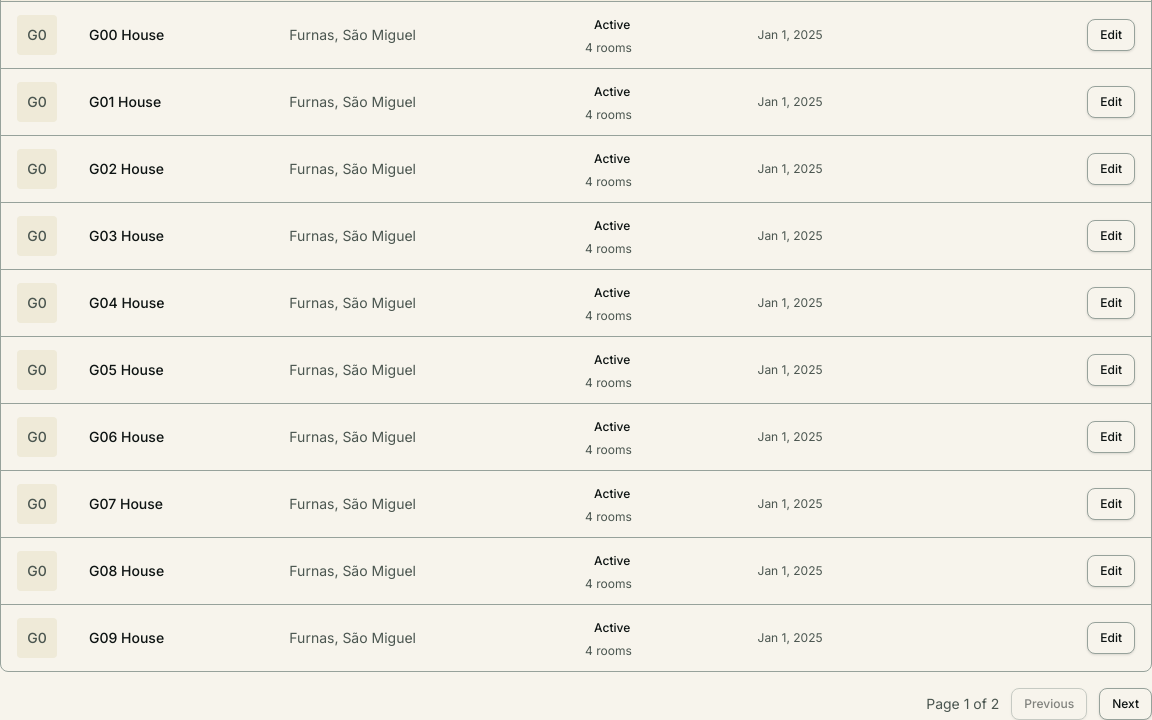
Test case: admin guesthouses — sorting + pagination (DAILY-TOUR-154) › paginates at 10 per page, advancing with Next
(page scrolled)
Expected: the row that starts with "G00 House" is shown, [1,2,1151,68]
Expected: the text "Page 1 of 2" is shown, [926,694,999,714]
What coordinates should you click on to do the following:
click the button "Next"
I would click on:
 (1126, 704)
Its box is [1099,688,1151,719].
(page scrolled)
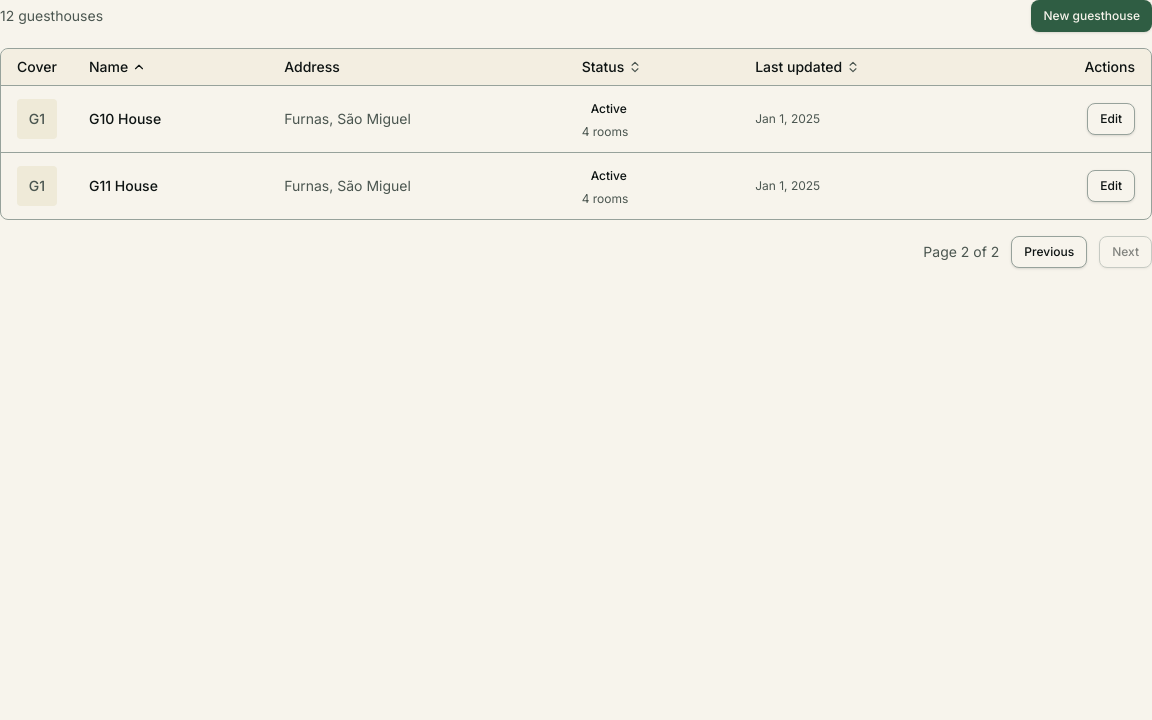
Expected: the text "Page 2 of 2" is shown, [923,242,999,262]
